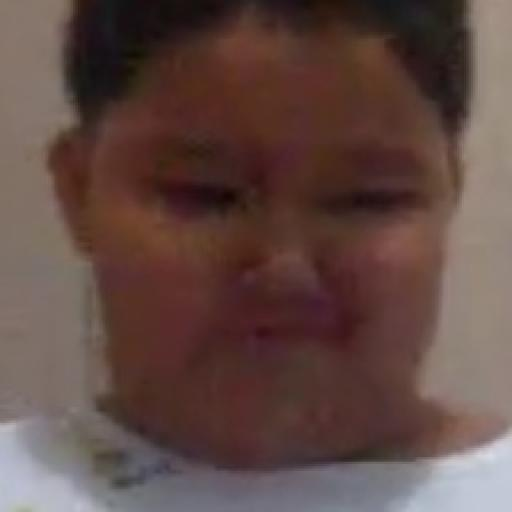Autism: (73, 7, 487, 473)
